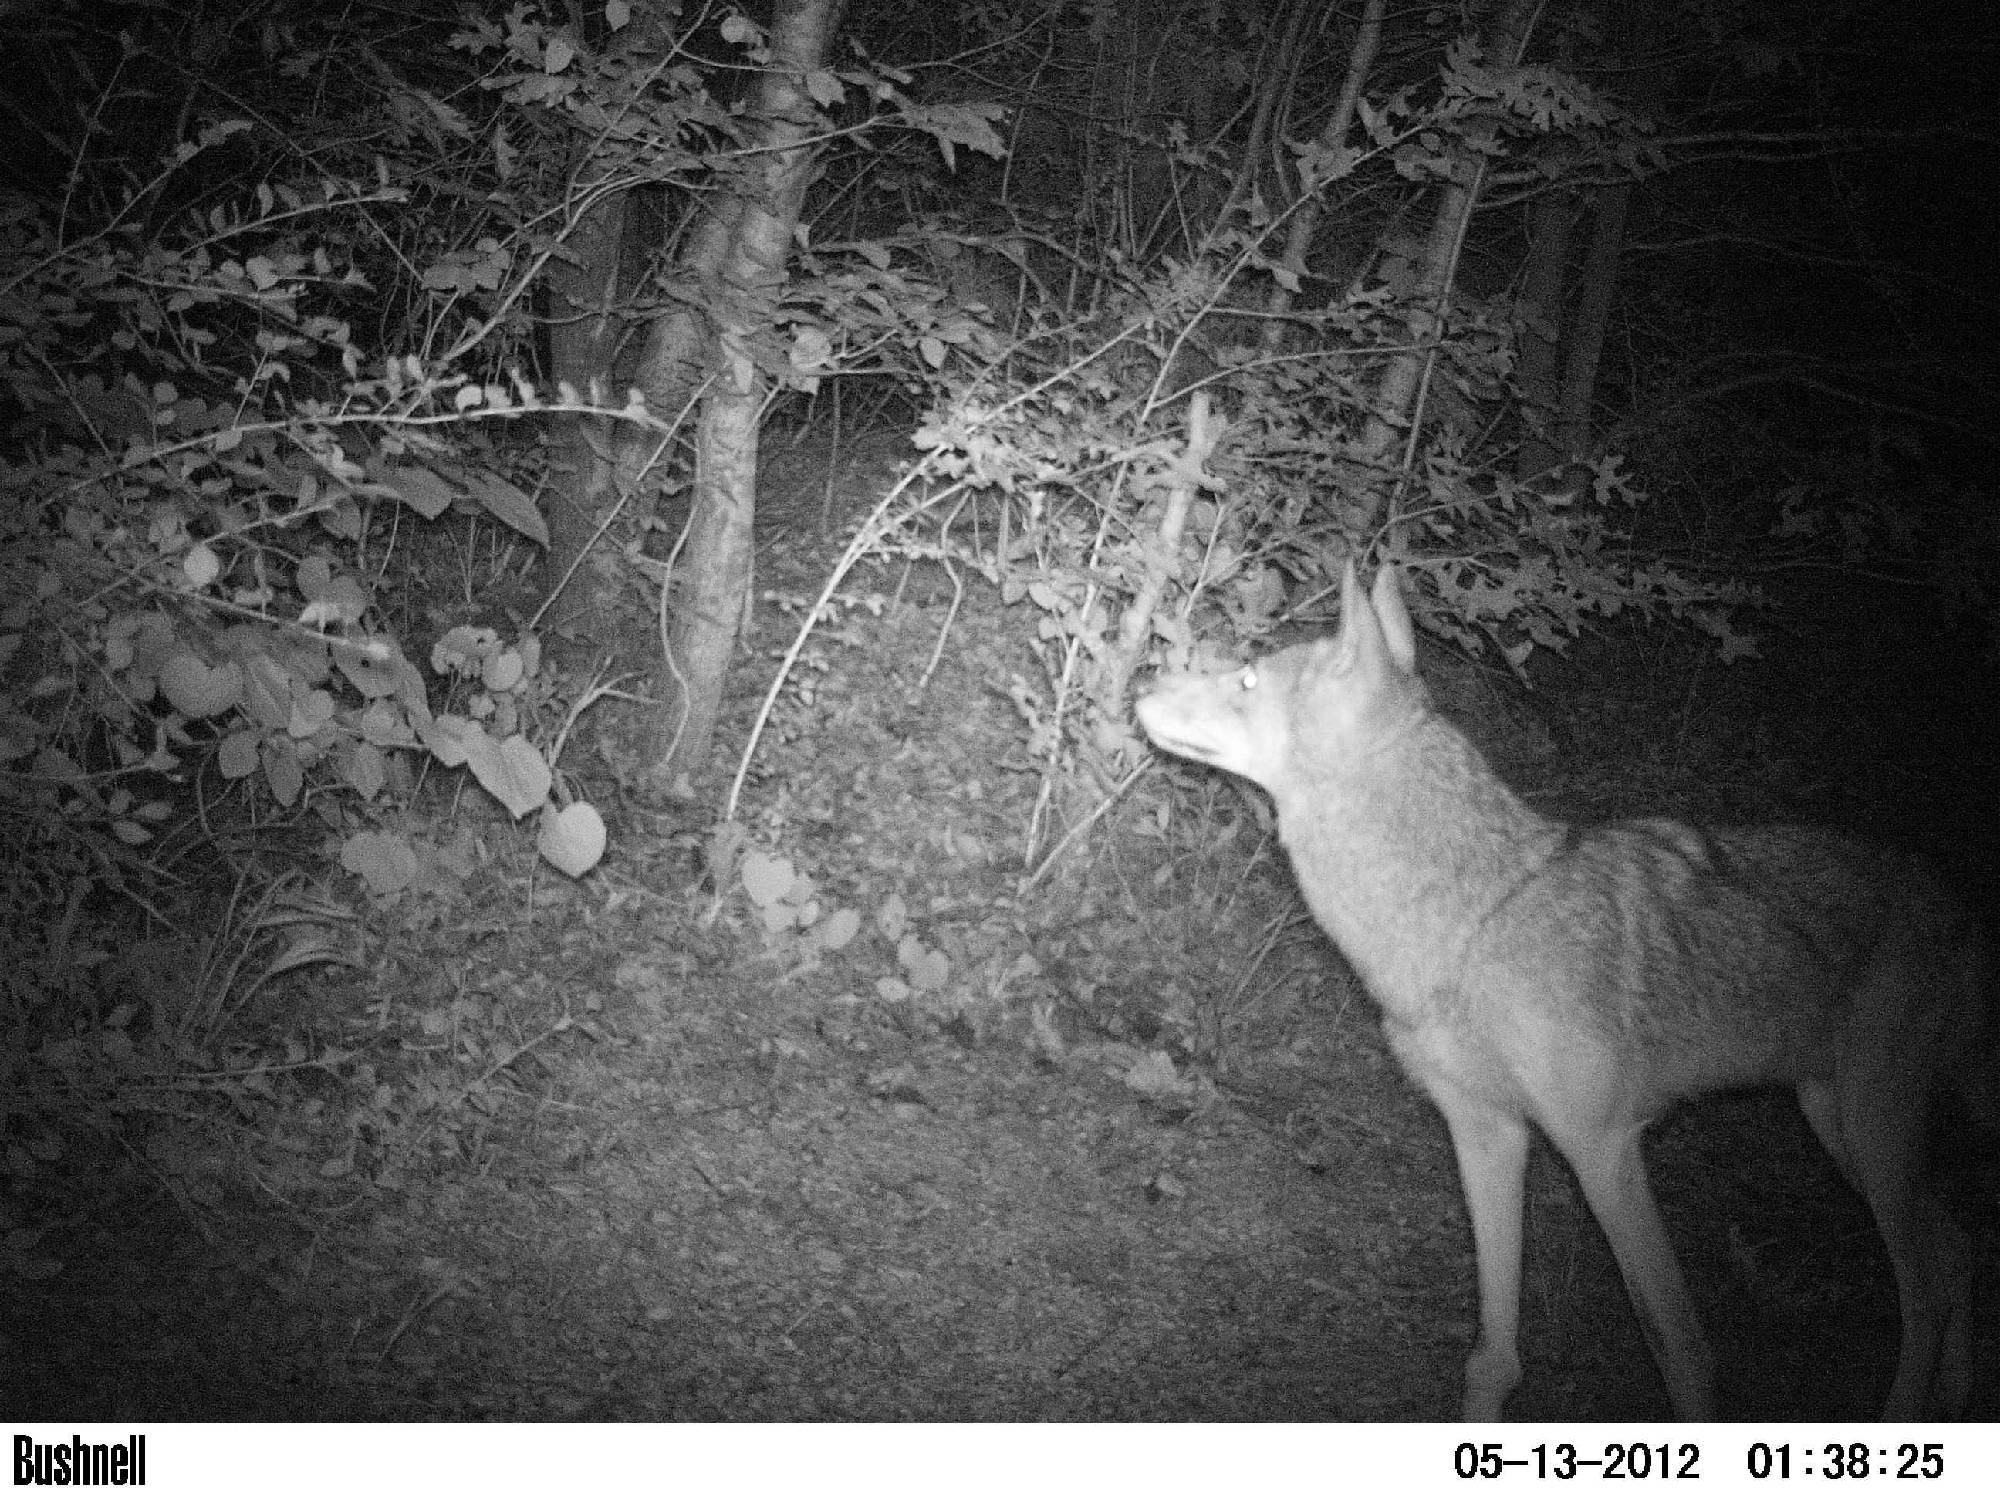coyote: (1120, 602, 2000, 1423)
